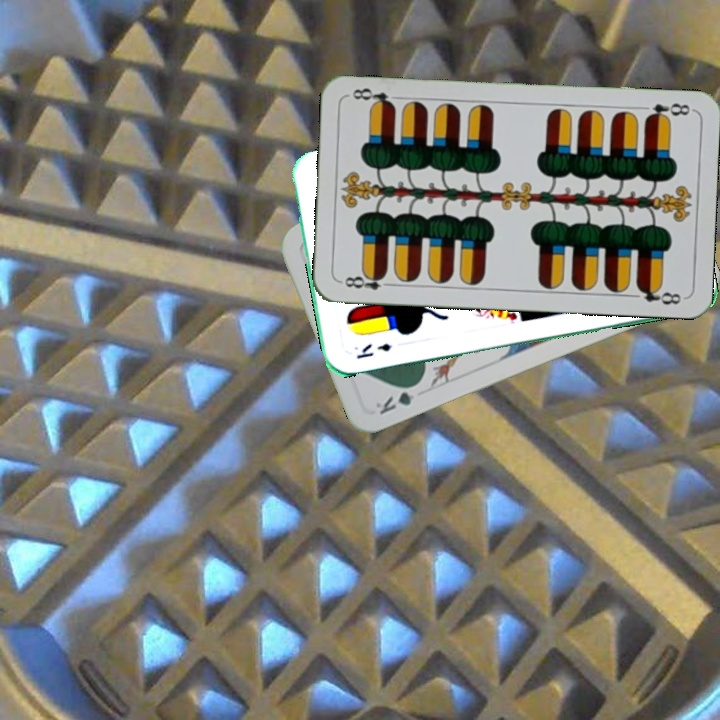E8: (337, 269, 396, 292), (642, 98, 693, 123)
EK: (353, 339, 394, 362)
GK: (371, 379, 424, 418)
